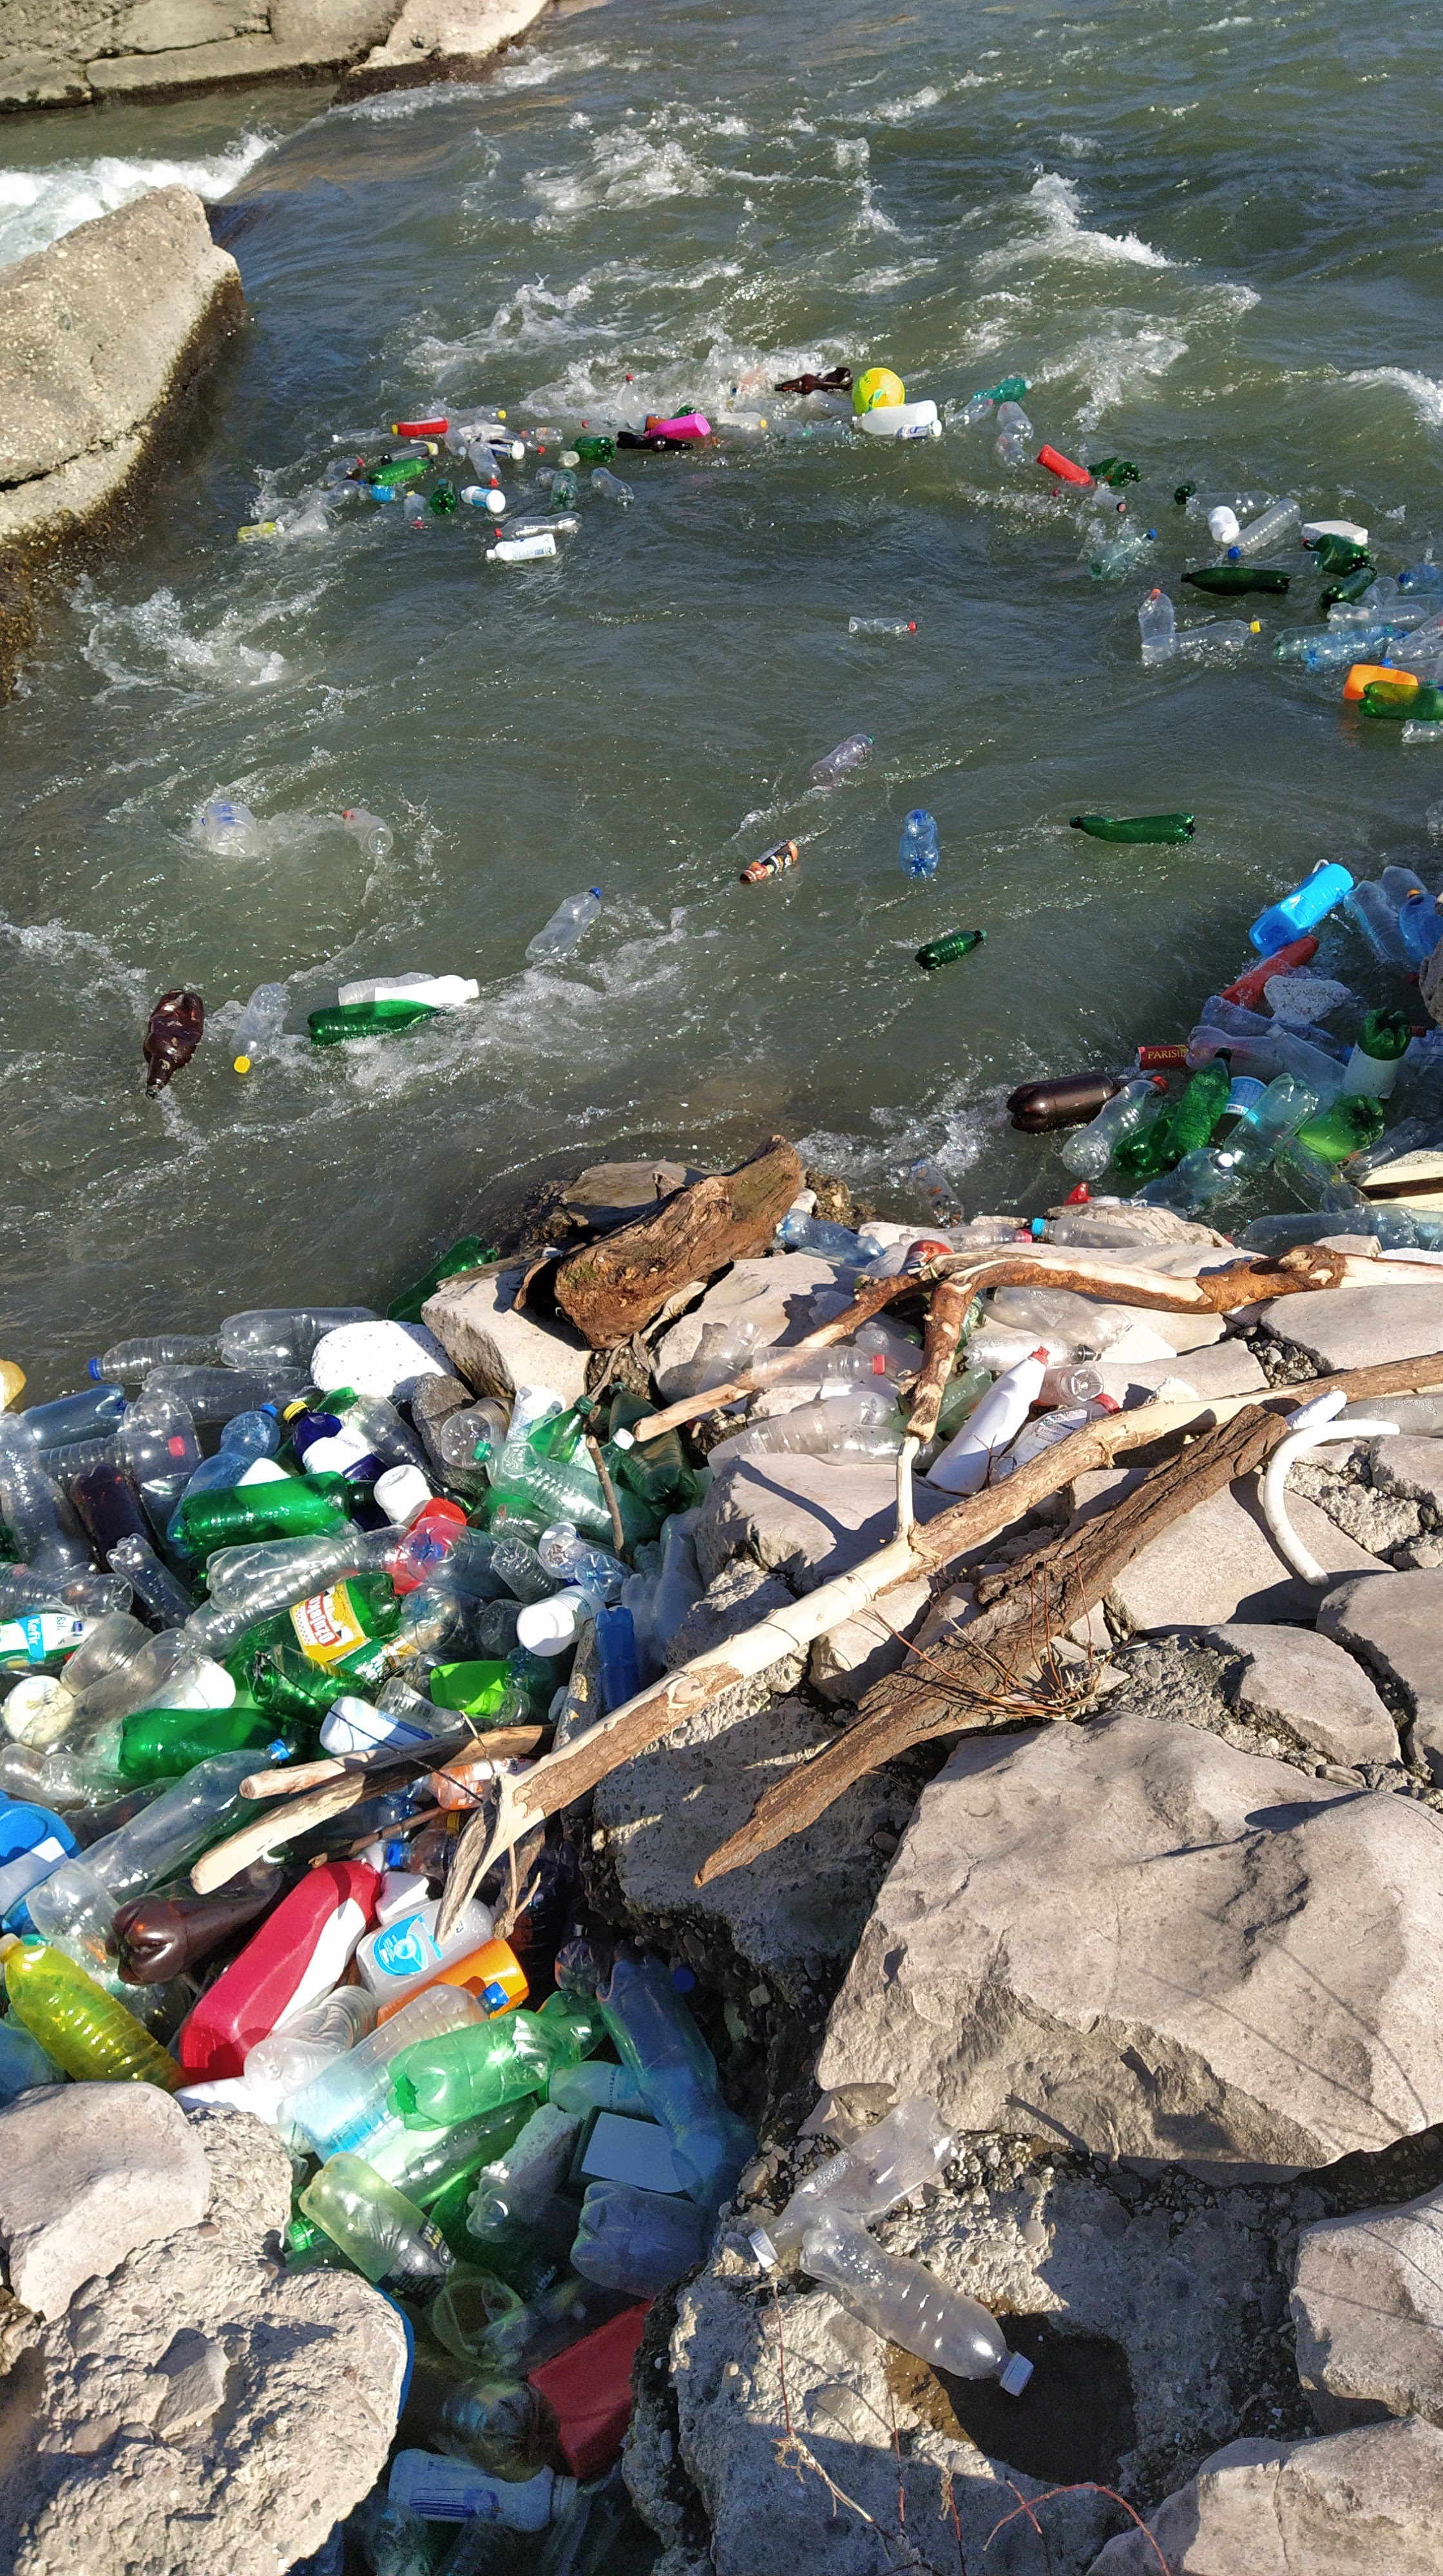Plastic Bottle: (165, 1403, 280, 1559), (124, 1389, 204, 1553), (1061, 1076, 1167, 1180), (1223, 1205, 1420, 1258), (1248, 858, 1353, 957), (386, 1235, 505, 1322), (1199, 994, 1351, 1062), (142, 1364, 315, 1422), (220, 1307, 382, 1369), (1223, 1072, 1319, 1171), (1160, 1047, 1231, 1171), (1006, 1072, 1137, 1132), (273, 1387, 359, 1477), (1344, 879, 1418, 984), (1275, 1136, 1374, 1212), (1222, 934, 1319, 1008), (19, 1384, 127, 1449), (89, 1332, 221, 1384), (143, 989, 205, 1099), (1133, 1146, 1234, 1210), (308, 1000, 439, 1046), (1266, 1024, 1346, 1099), (1346, 1007, 1409, 1097), (228, 982, 290, 1072), (524, 888, 600, 961), (1300, 1093, 1385, 1157), (1186, 1024, 1287, 1077), (1114, 1100, 1181, 1177), (1140, 619, 1261, 662), (1273, 617, 1392, 660), (1301, 628, 1408, 672), (1229, 497, 1301, 556), (1069, 814, 1195, 844), (910, 1164, 965, 1228), (809, 734, 875, 786), (1358, 681, 1443, 720), (1181, 566, 1291, 596), (1089, 527, 1158, 575), (1381, 610, 1443, 663), (338, 971, 436, 1005), (374, 975, 480, 1005), (1399, 890, 1441, 962), (202, 801, 257, 856), (915, 929, 988, 970), (855, 400, 938, 435), (898, 809, 940, 878), (1301, 534, 1370, 575), (1342, 663, 1418, 699), (1184, 490, 1284, 517), (1328, 602, 1427, 628), (496, 511, 583, 541), (1321, 566, 1377, 610), (471, 419, 545, 453), (1089, 1196, 1188, 1221), (740, 840, 797, 883), (1376, 865, 1429, 909), (343, 809, 393, 855), (774, 366, 853, 395), (1038, 444, 1091, 483), (485, 533, 556, 561), (1138, 587, 1176, 637), (367, 456, 436, 483), (710, 426, 777, 453), (1252, 552, 1323, 577), (590, 467, 634, 506), (616, 432, 692, 453), (972, 379, 1032, 405), (646, 414, 710, 439), (1399, 1024, 1425, 1083), (992, 433, 1029, 474), (1087, 456, 1140, 485), (997, 400, 1032, 442), (623, 373, 650, 428), (1399, 563, 1443, 594), (446, 405, 506, 428), (953, 393, 995, 425), (806, 389, 853, 418), (469, 442, 501, 485), (1052, 476, 1110, 499), (1393, 658, 1443, 685), (1356, 577, 1397, 609), (783, 425, 852, 442), (391, 416, 448, 437), (848, 616, 915, 633), (1208, 506, 1239, 543), (549, 469, 577, 510), (287, 508, 328, 536), (1385, 594, 1443, 614), (322, 456, 365, 483), (574, 435, 613, 464), (476, 437, 522, 460), (1401, 718, 1443, 743), (462, 487, 505, 511), (894, 419, 942, 441), (381, 442, 428, 464), (358, 485, 414, 502), (715, 410, 767, 430), (329, 426, 381, 446), (430, 478, 457, 515), (237, 522, 287, 541), (744, 398, 791, 418), (457, 425, 506, 442), (1092, 490, 1126, 513), (1409, 635, 1443, 658), (521, 426, 563, 444), (807, 414, 859, 428), (581, 419, 621, 437), (1425, 798, 1443, 835), (331, 479, 358, 504), (444, 428, 467, 455), (767, 418, 802, 433), (1174, 481, 1197, 504), (306, 488, 329, 510), (404, 495, 425, 517), (535, 467, 556, 487), (559, 449, 579, 469), (671, 405, 696, 419)
